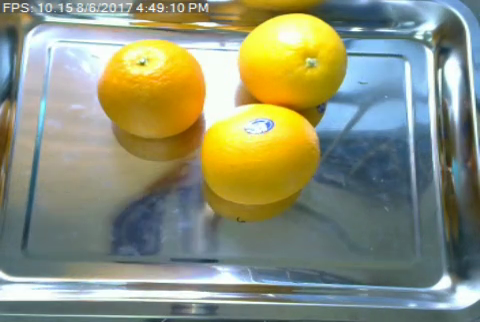Orange: (201, 103, 318, 205), (98, 38, 206, 137), (237, 12, 345, 106)
